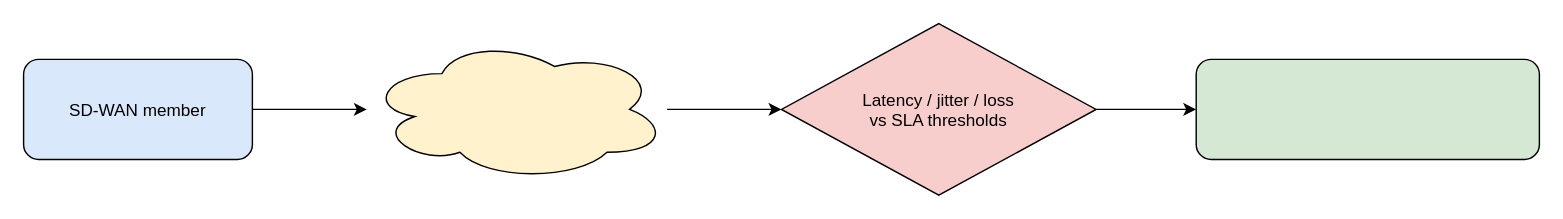
This 1563x219 diagram has some shape labels left out. Here are the shapes that lost their labels. From the top down, the centre of each, then its label:
At pixel 516 108: "Active probes or passive sessions".
At pixel 1367 108: "Fail all checks → remove routes Pass → reestablish routes".
